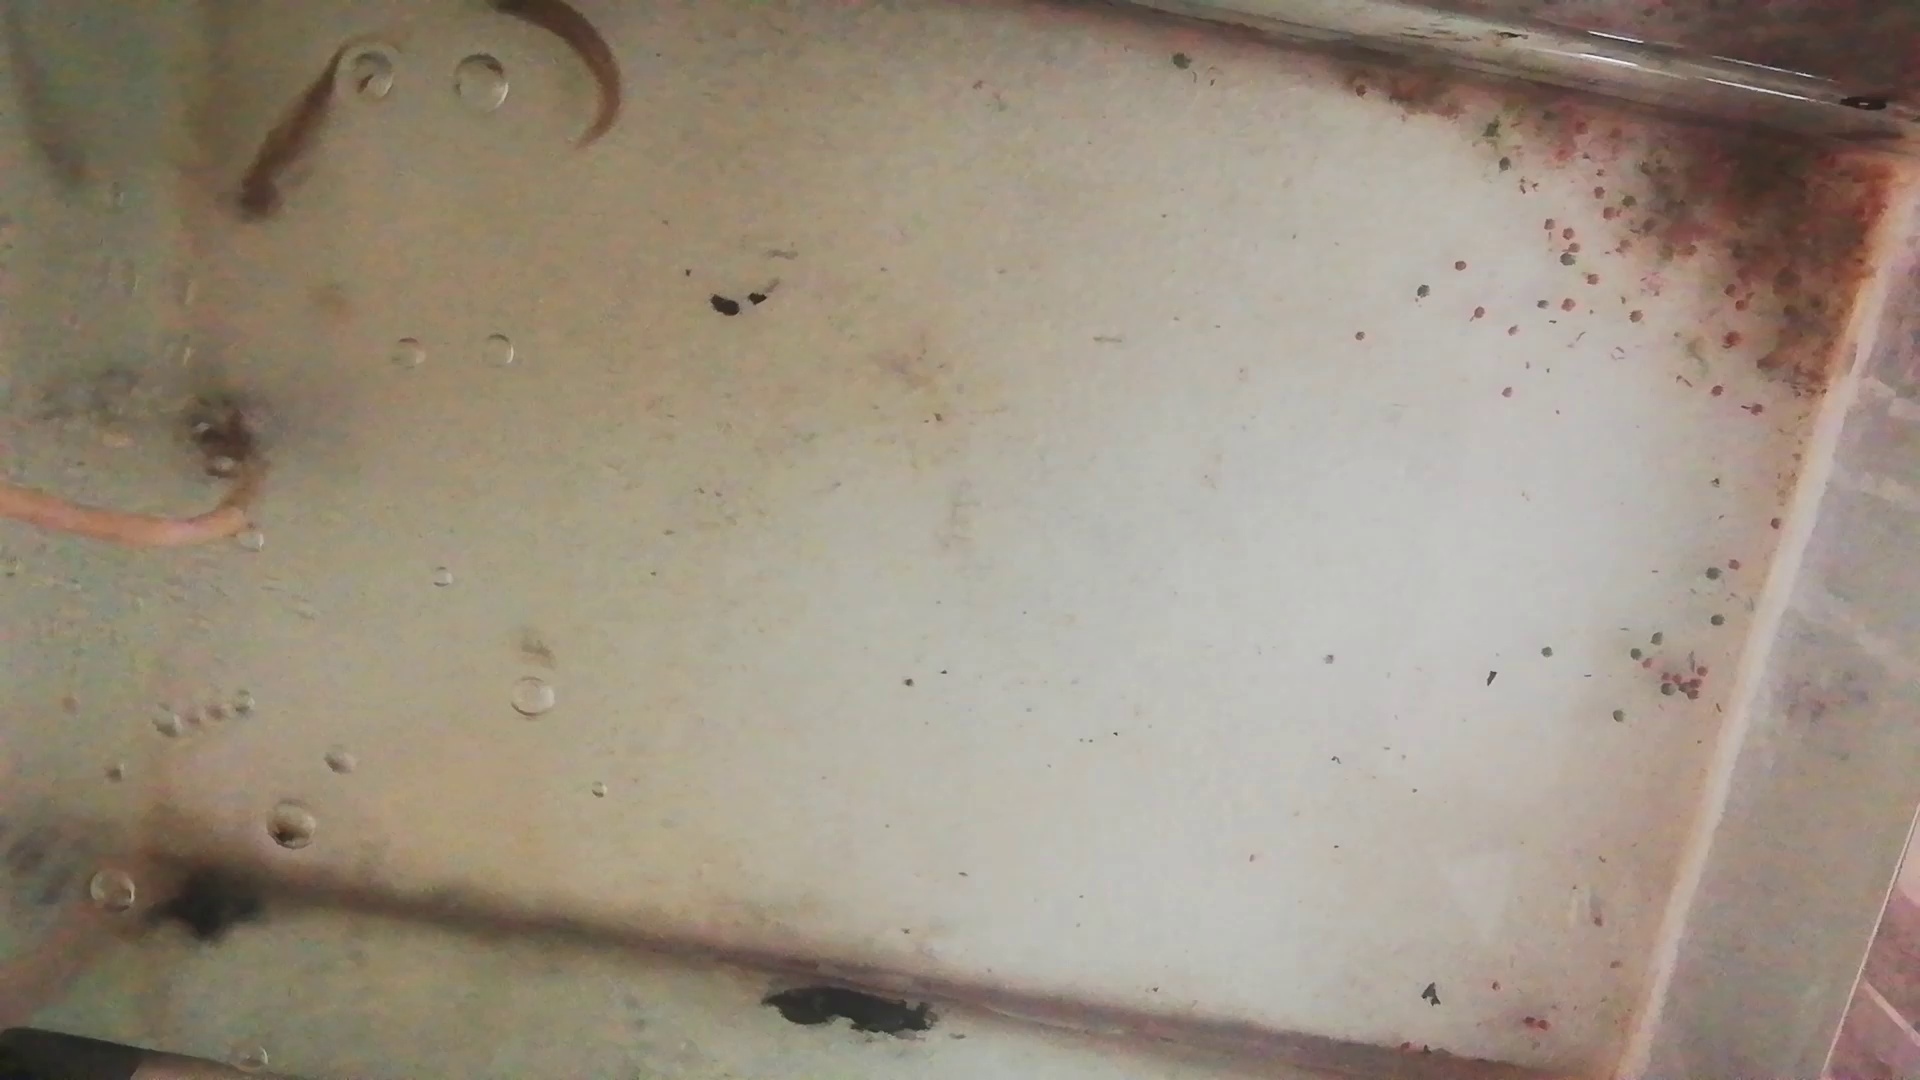fish: (227, 51, 357, 219), (491, 3, 624, 156)
